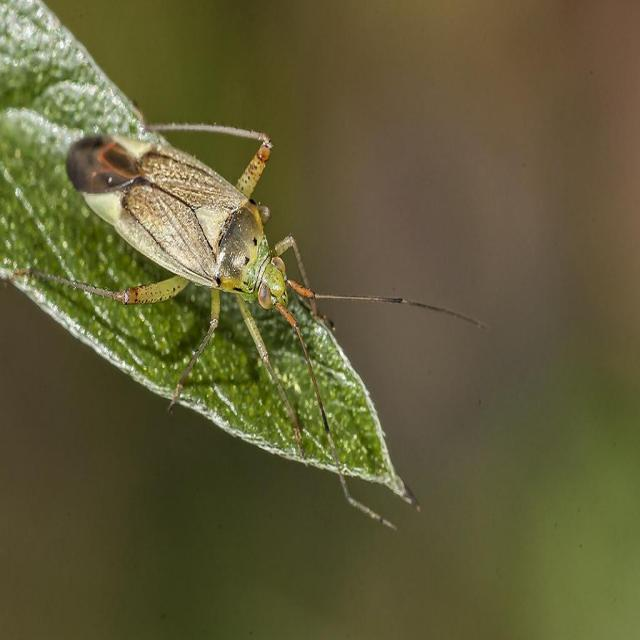Miridae-Adult-: (34, 107, 414, 429)
